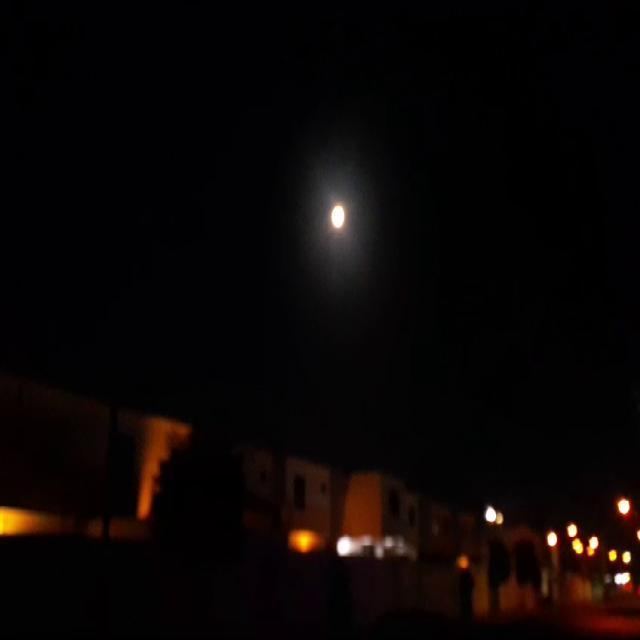moon: (325, 199, 348, 233)
